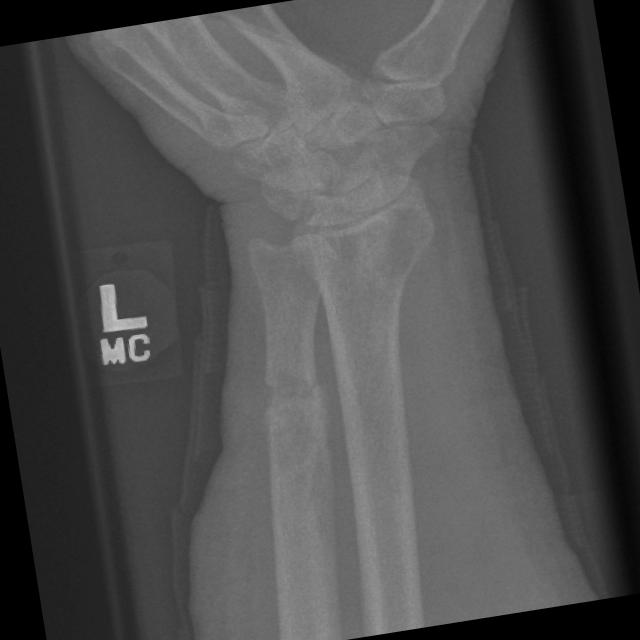wrist positive: (223, 337, 377, 457), (372, 114, 450, 157)
